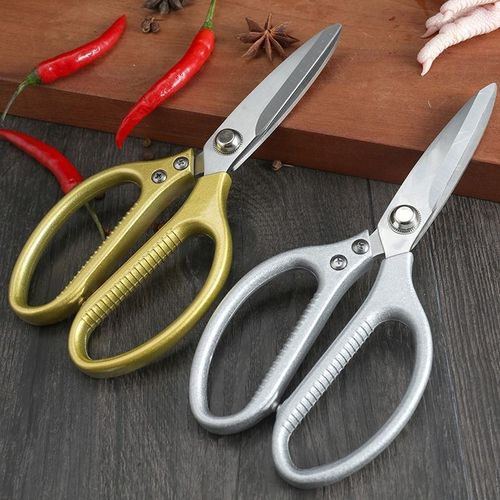scissor: (187, 84, 497, 487), (9, 19, 345, 379)
